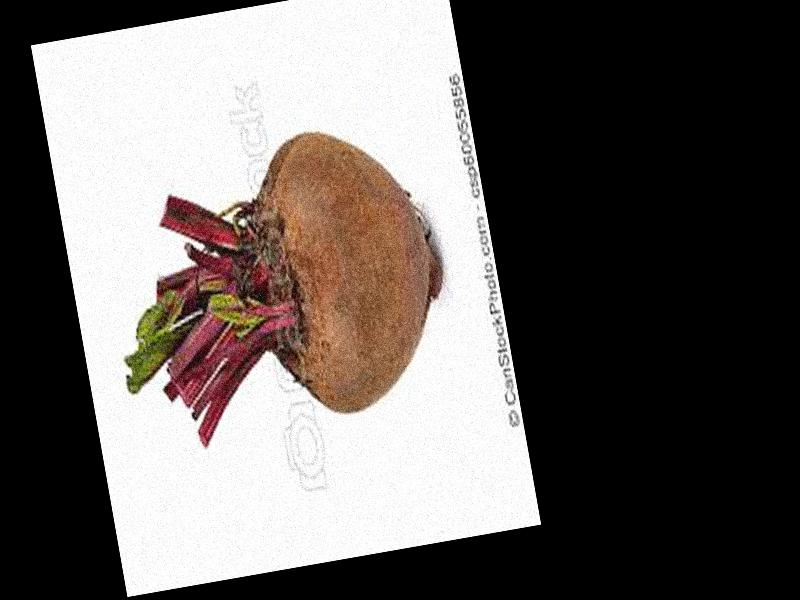Beet: (89, 111, 464, 457)
